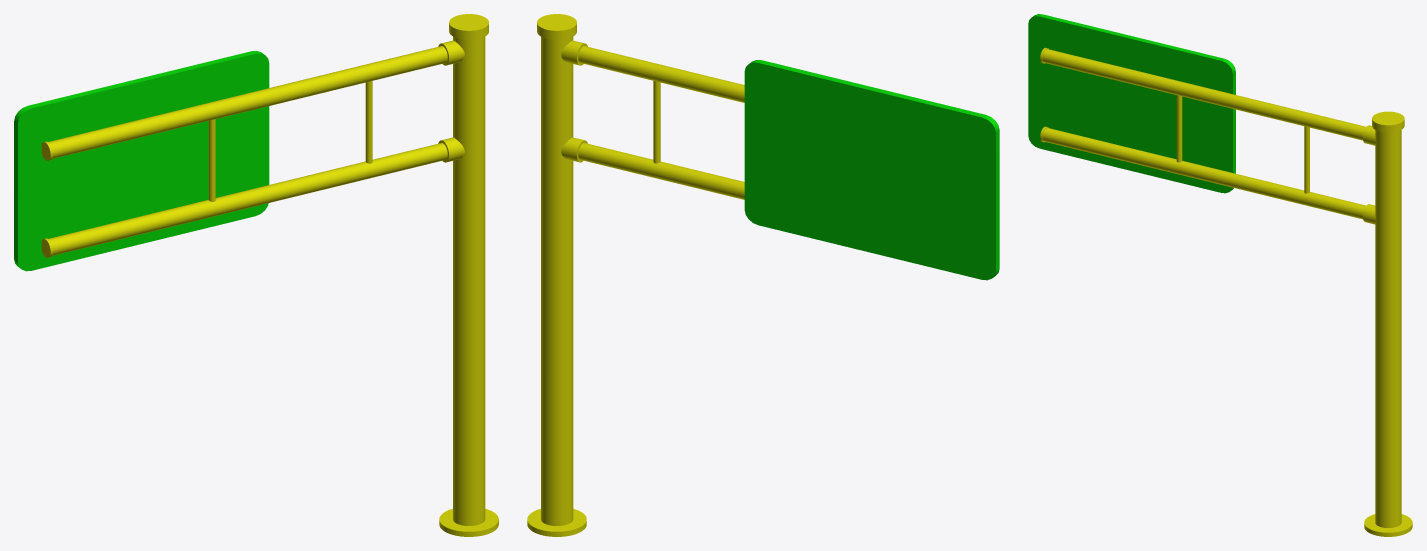
File: Road_Signs.fbx
The picture shows the model from 3 angles, left to right: view 1: azimuth 30°, elevation 25°; view 2: azimuth 150°, elevation 25°; view 3: azimuth 330°, elevation 25°; orthographic projection. The views are drawn at different scales.
Parts seen in each view (by area): view 1: Road_Signs; view 2: Road_Signs; view 3: Road_Signs.
Part boxes in pixels (x1,y1,x2,y2): Road_Signs: (14, 14, 498, 536); Road_Signs: (527, 14, 999, 536); Road_Signs: (1028, 14, 1412, 536).
Size of the model in its own units: 227 by 237 by 24.66.
